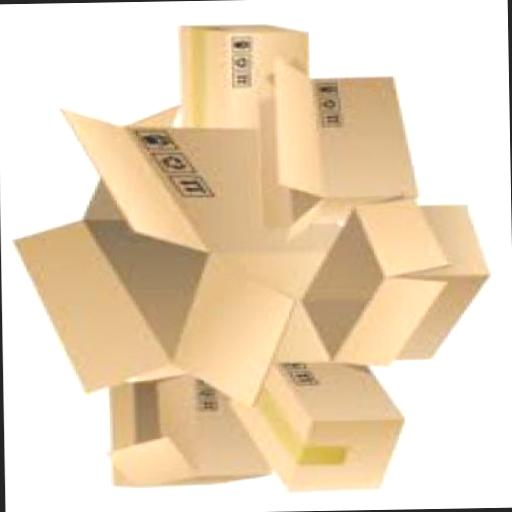cardboard: (6, 105, 331, 414), (292, 198, 488, 371), (244, 58, 414, 243), (222, 362, 402, 496), (99, 374, 260, 488), (174, 25, 306, 128)
